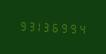four: (80, 21, 88, 35)
nine: (71, 20, 79, 35), (17, 18, 25, 32), (62, 20, 70, 34)
one: (35, 19, 43, 33)
six: (53, 20, 61, 34)
three: (26, 18, 34, 33), (44, 19, 52, 33)
